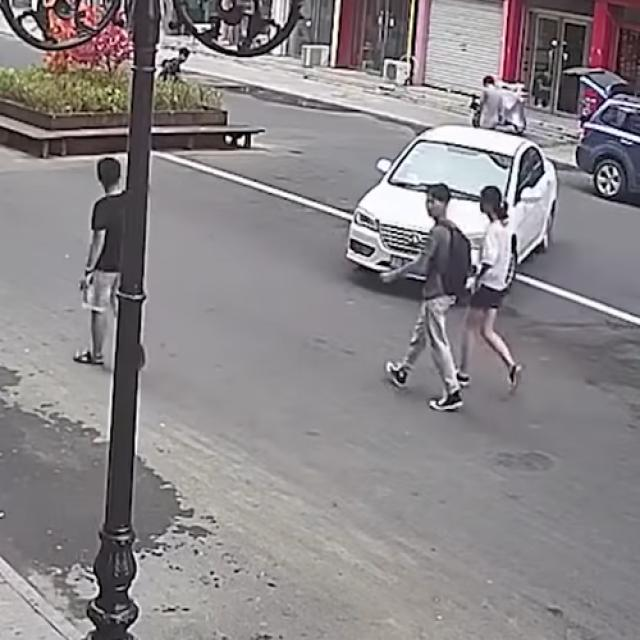person: (379, 177, 470, 417), (73, 153, 146, 384), (461, 181, 523, 397), (474, 72, 506, 137)
